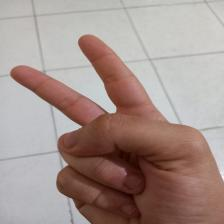two: (13, 35, 213, 220)
